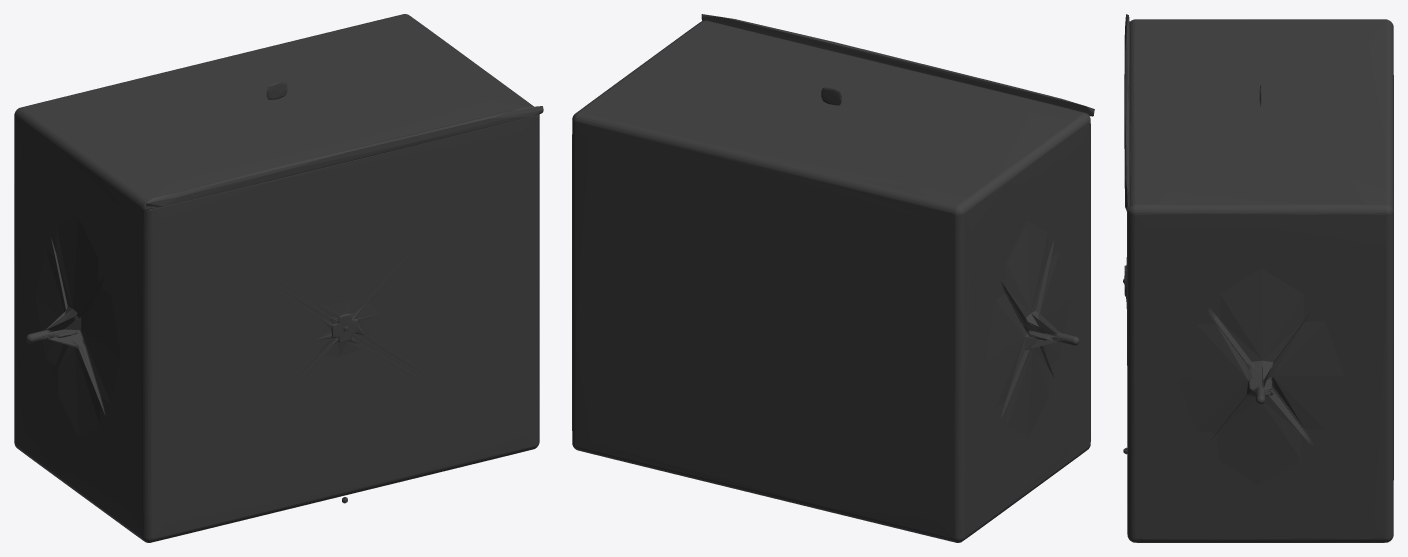
The model's file is tmp_industrial_crate_quick.glb.
The picture shows the model from 3 angles, left to right: view 1: azimuth 30°, elevation 25°; view 2: azimuth 150°, elevation 25°; view 3: azimuth 270°, elevation 25°; orthographic projection.
Parts seen in each view (by area): view 1: policy.panelized_hard_surface_object.fastener.1; view 2: policy.panelized_hard_surface_object.fastener.1; view 3: policy.panelized_hard_surface_object.fastener.1.
Part boxes in pixels (<box>): policy.panelized_hard_surface_object.fastener.1: <box>14,14,543,542</box>; policy.panelized_hard_surface_object.fastener.1: <box>572,14,1094,542</box>; policy.panelized_hard_surface_object.fastener.1: <box>1123,14,1393,542</box>.
Bounding box in the file's own units: 96.48 × 68.14 × 45.7.
1 material, 1 textured.
